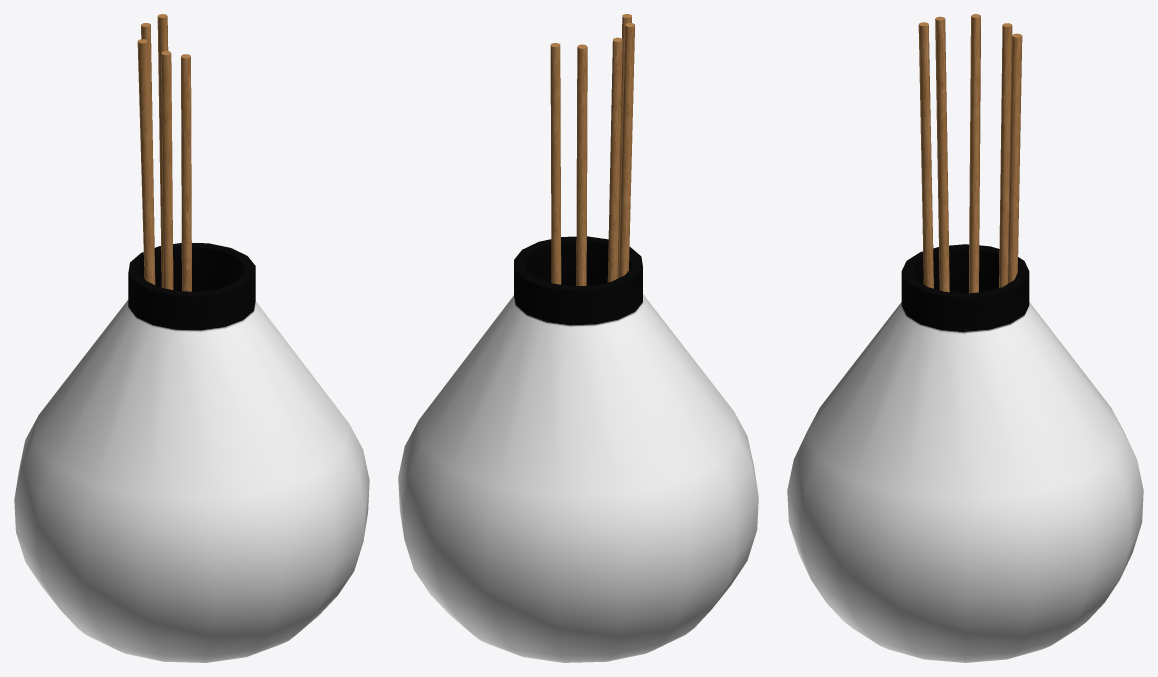
The model's file is aroma_vase.fbx.
3 renders of one model, left to right at view 1: azimuth 30°, elevation 25°; view 2: azimuth 150°, elevation 25°; view 3: azimuth 270°, elevation 25°, orthographic. The views are drawn at different scales.
Parts seen in each view (by area): view 1: aroma_vase, aromastick_3, aromastick_4, aromastick_5, aromastick_1, aromastick_2; view 2: aroma_vase, aromastick_2, aromastick_4, aromastick_3, aromastick_1, aromastick_5; view 3: aroma_vase, aromastick_3, aromastick_4, aromastick_5, aromastick_1, aromastick_2.
Boxes of the visible parts, bbox=[...] form: aroma_vase: bbox=[14, 243, 369, 662]; aromastick_3: bbox=[137, 39, 154, 284]; aromastick_4: bbox=[161, 51, 173, 289]; aromastick_5: bbox=[181, 54, 191, 291]; aromastick_1: bbox=[157, 14, 168, 287]; aromastick_2: bbox=[141, 23, 155, 284]; aroma_vase: bbox=[398, 236, 758, 662]; aromastick_2: bbox=[576, 44, 587, 285]; aromastick_4: bbox=[619, 23, 634, 277]; aromastick_3: bbox=[607, 37, 622, 282]; aromastick_1: bbox=[550, 43, 561, 284]; aromastick_5: bbox=[617, 14, 631, 278]; aroma_vase: bbox=[787, 244, 1143, 662]; aromastick_3: bbox=[969, 14, 980, 293]; aromastick_4: bbox=[935, 16, 949, 292]; aromastick_5: bbox=[918, 22, 933, 288]; aromastick_1: bbox=[1007, 33, 1022, 283]; aromastick_2: bbox=[999, 23, 1012, 287].
Size of the model in its own units: 14 by 25.64 by 14.
1 material, 1 textured.
